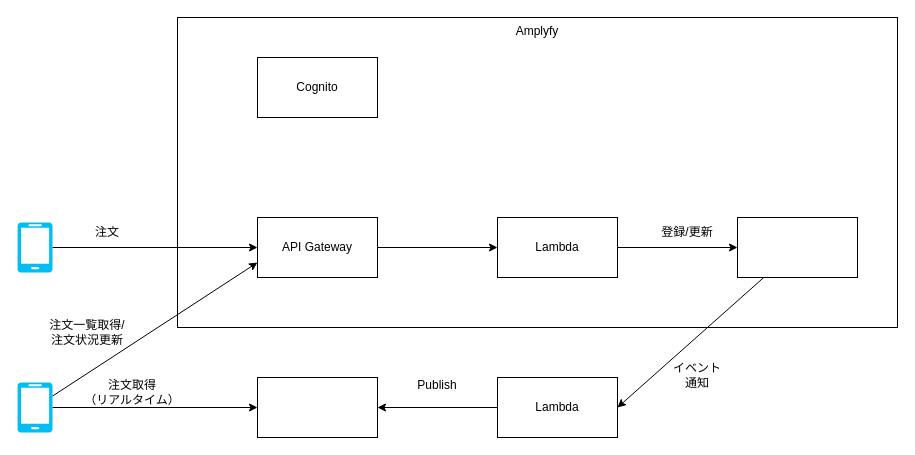
Image size: 915x455. Some labels were removed from this diagram. The shapes that lost their labels are listed below. From the top down, each one's box as (x1, y1, x2, y2) in pixels, then its label:
(736, 216, 858, 278): DynamoDB
(256, 376, 378, 438): IoTCore
